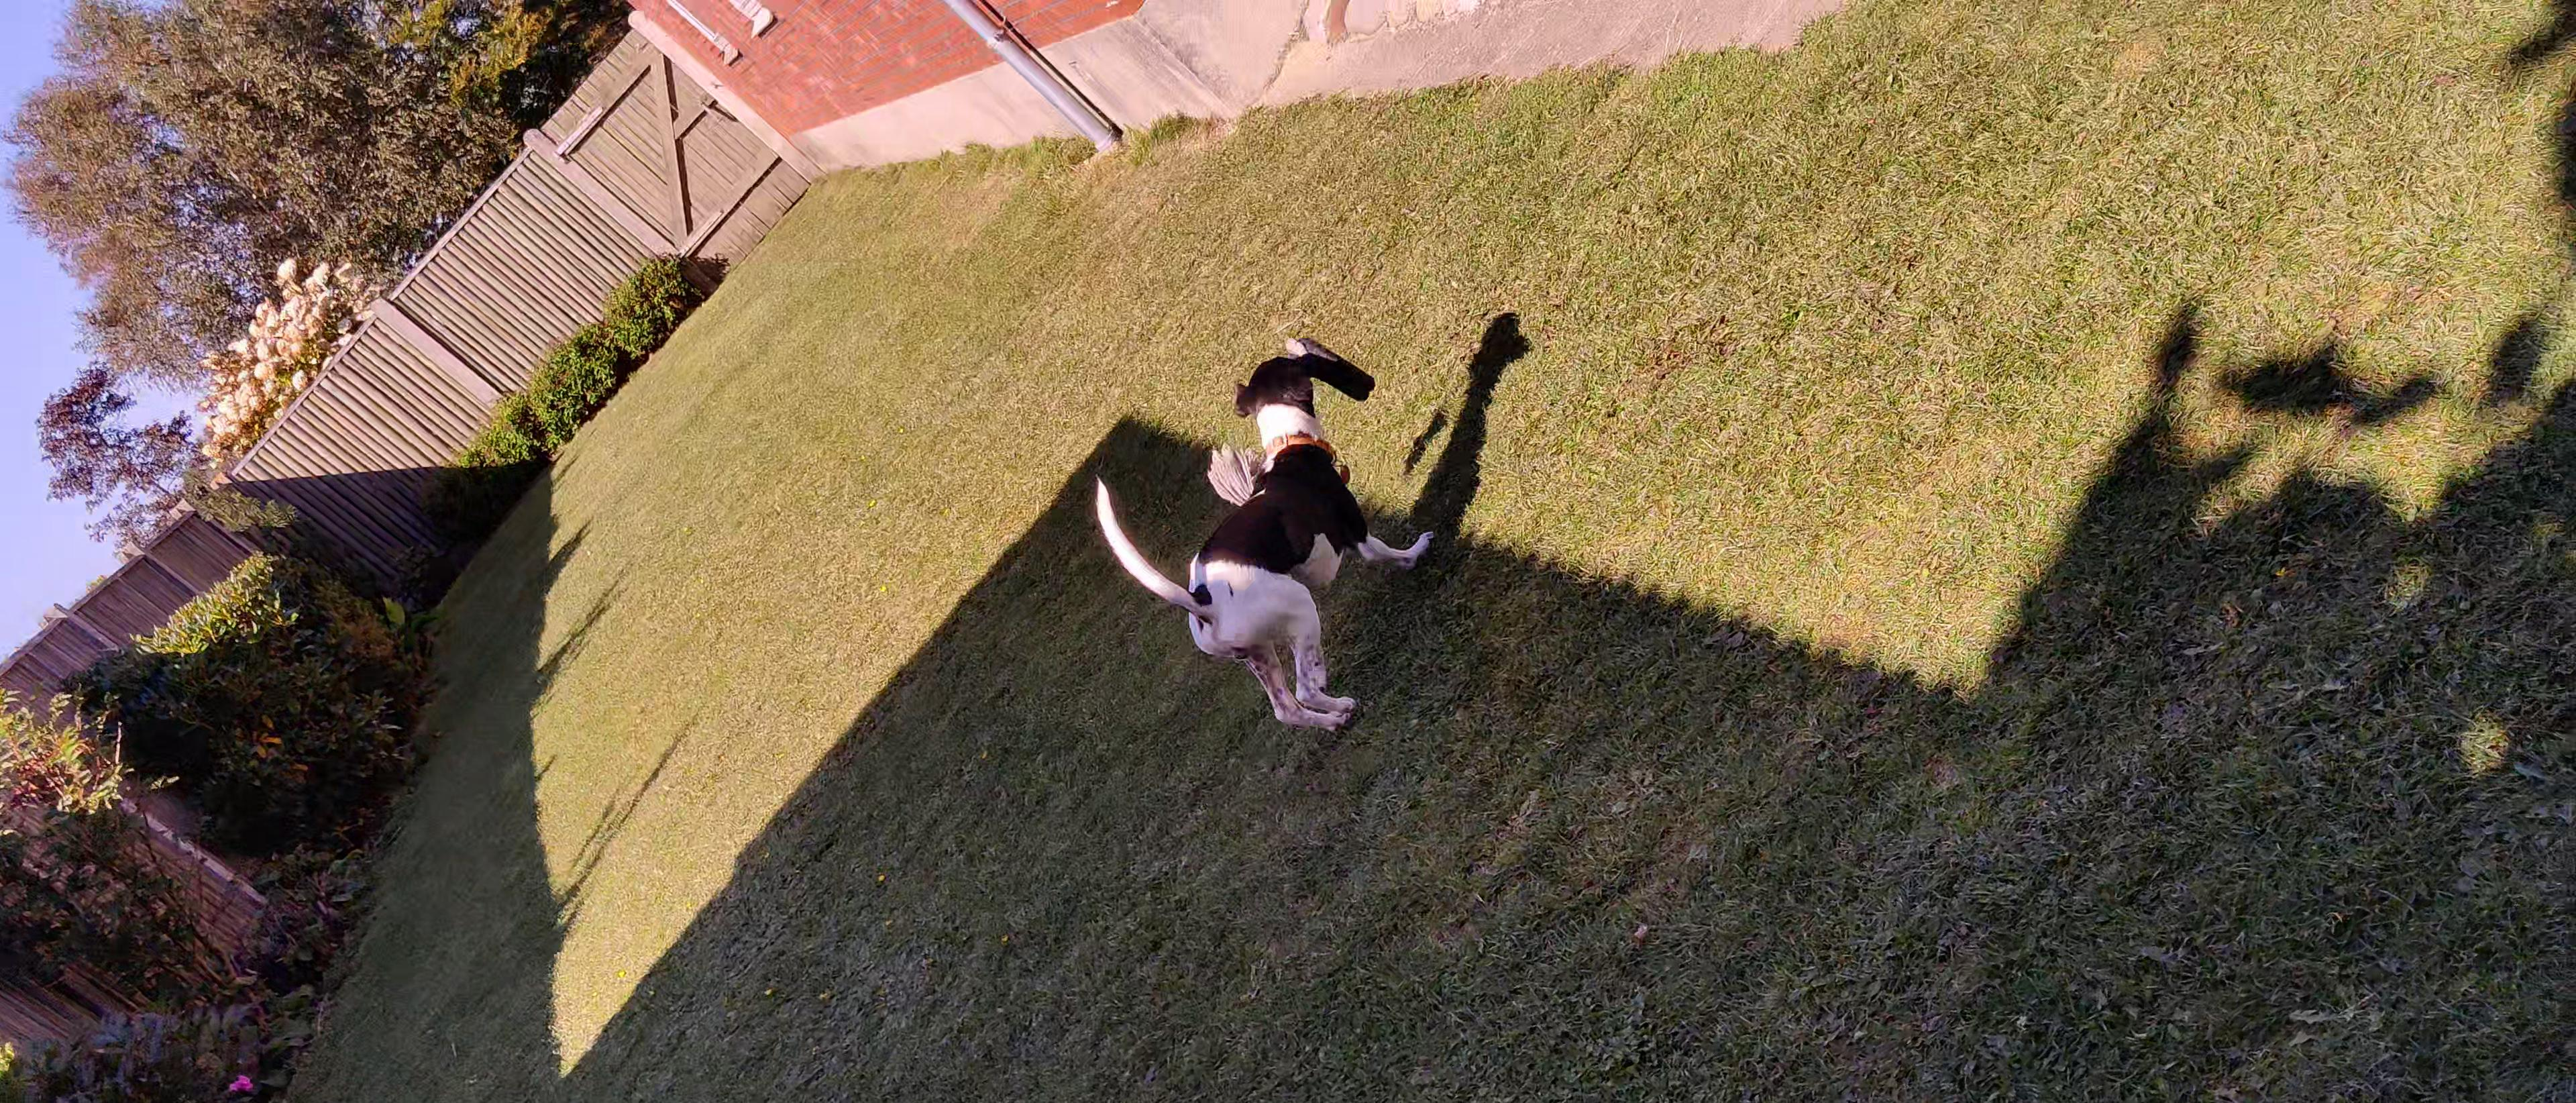Dog: (1092, 350, 1441, 733)
